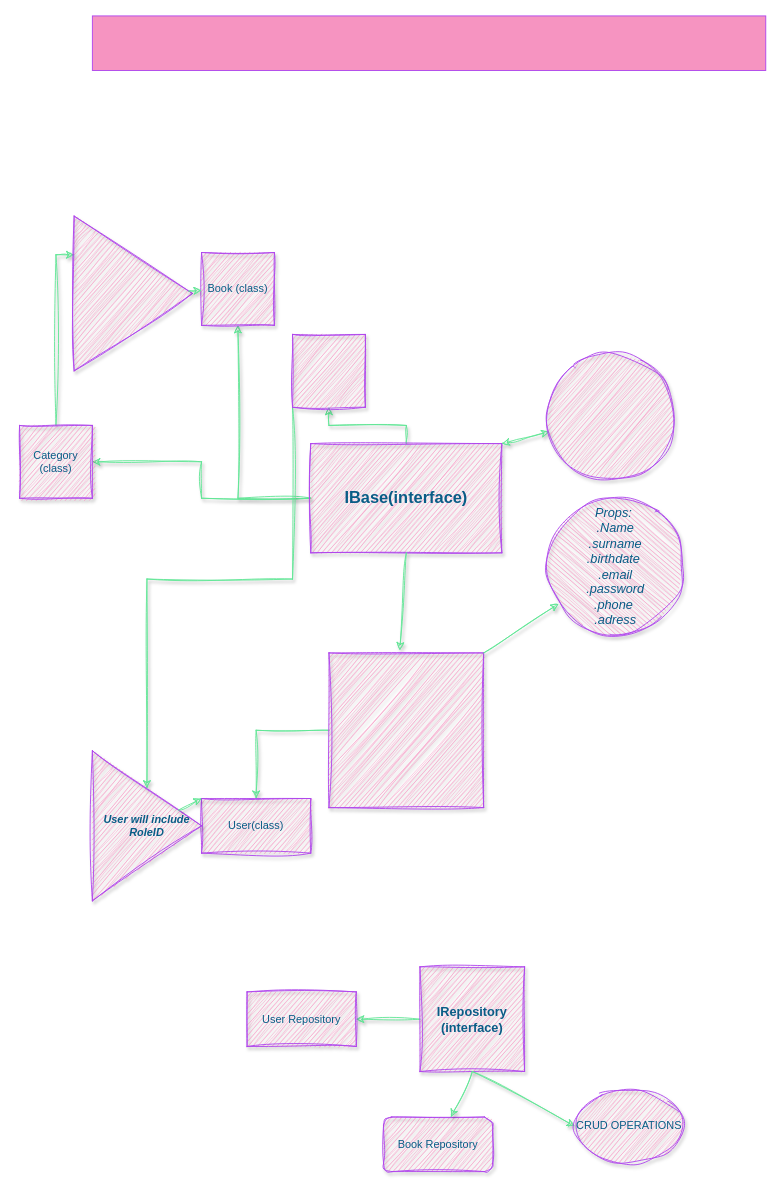
This 782x1194 diagram has some shape labels left out. The shapes that lost their labels are listed below. From the top down, each one's centre as x and y in pixels, then its label:
At point (428, 43): "How Will I Arrange Navigational Properties?".
At point (134, 294): "Books will include CategoryID".
At point (329, 372): "Role(class)".
At point (611, 417): "Props: .Id (int) .Created date (datetime)".
At point (406, 731): "IPerson(interface)".
